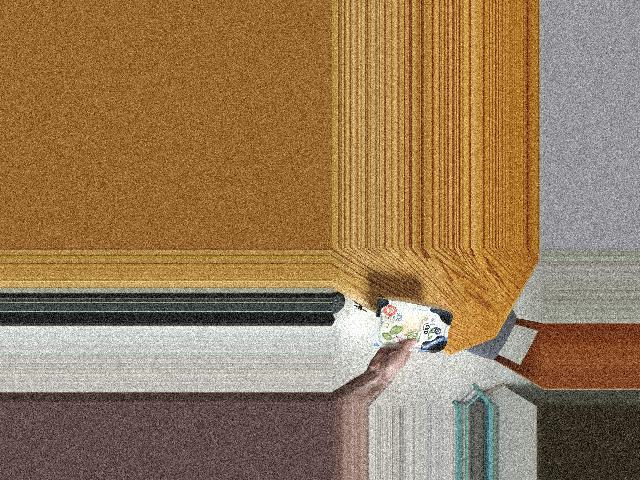cheese: (369, 293, 451, 366)
